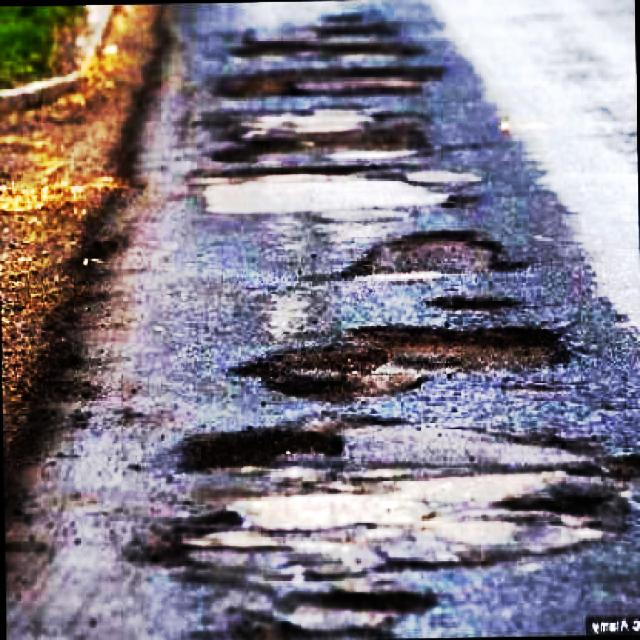pothole: (226, 320, 577, 408), (503, 418, 640, 540), (223, 571, 437, 640), (202, 106, 446, 162), (330, 225, 528, 288), (180, 420, 351, 488), (230, 10, 424, 64), (217, 62, 455, 103), (124, 506, 244, 571)
